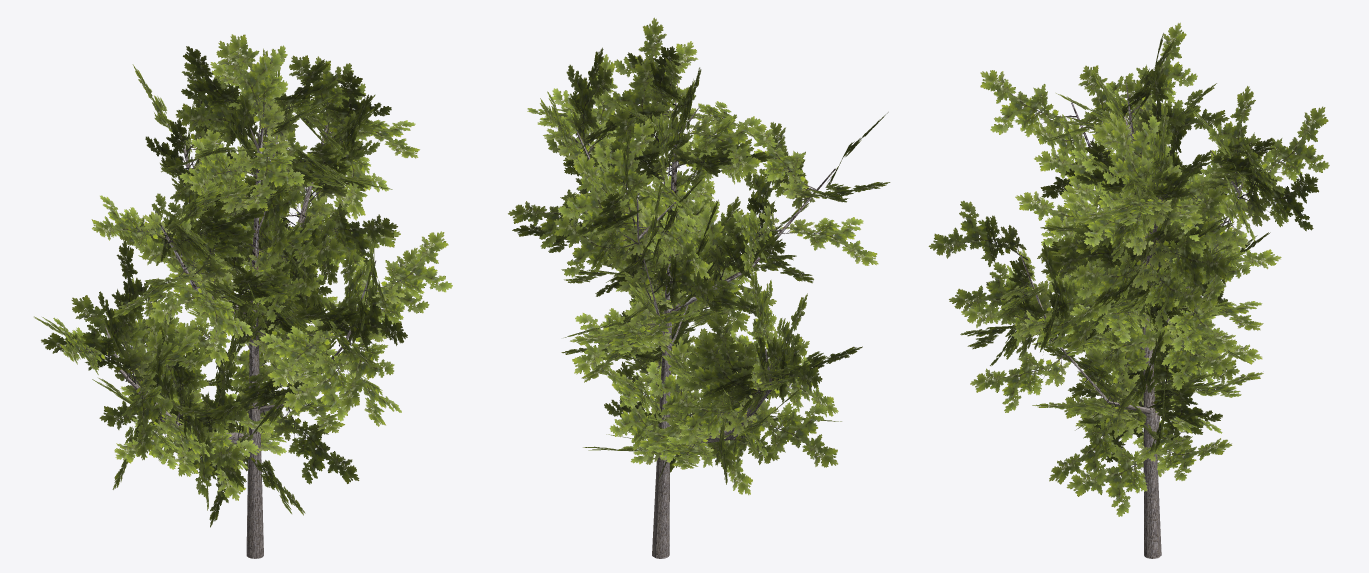
Rendered from tree03.glb.
3 views of the same model, side by side, from view 1: azimuth 30°, elevation 25°; view 2: azimuth 150°, elevation 25°; view 3: azimuth 270°, elevation 25° (orthographic).
Visible parts, largest first — view 1: 1_pngaaa.com-3905963_0, 1_bark-1_0; view 2: 1_pngaaa.com-3905963_0, 1_bark-1_0; view 3: 1_pngaaa.com-3905963_0, 1_bark-1_0.
Boxes of the visible parts, x1,y1,x2,y2 form: 1_pngaaa.com-3905963_0: (34, 34, 452, 527); 1_bark-1_0: (103, 90, 376, 558); 1_pngaaa.com-3905963_0: (508, 17, 890, 495); 1_bark-1_0: (576, 78, 835, 558); 1_pngaaa.com-3905963_0: (928, 22, 1329, 516); 1_bark-1_0: (1020, 80, 1252, 558).
Size of the model in its own units: 6.5 by 9 by 6.64.
Materials: 2 (2 with a texture image).
